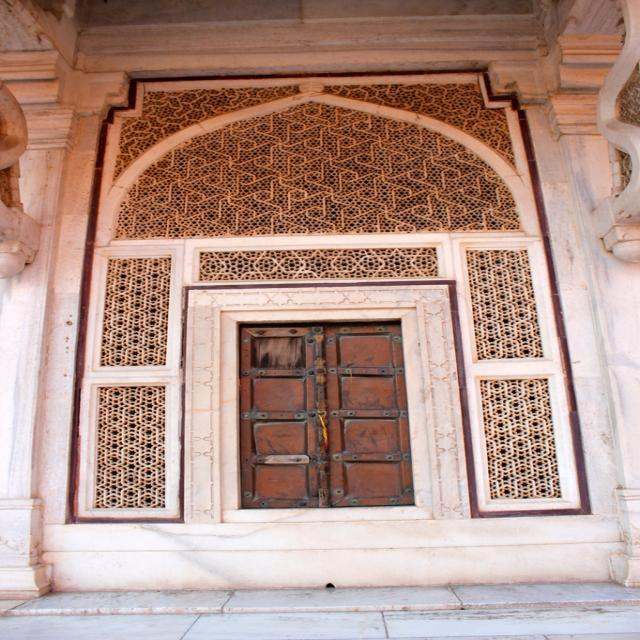door: (46, 57, 602, 550)
